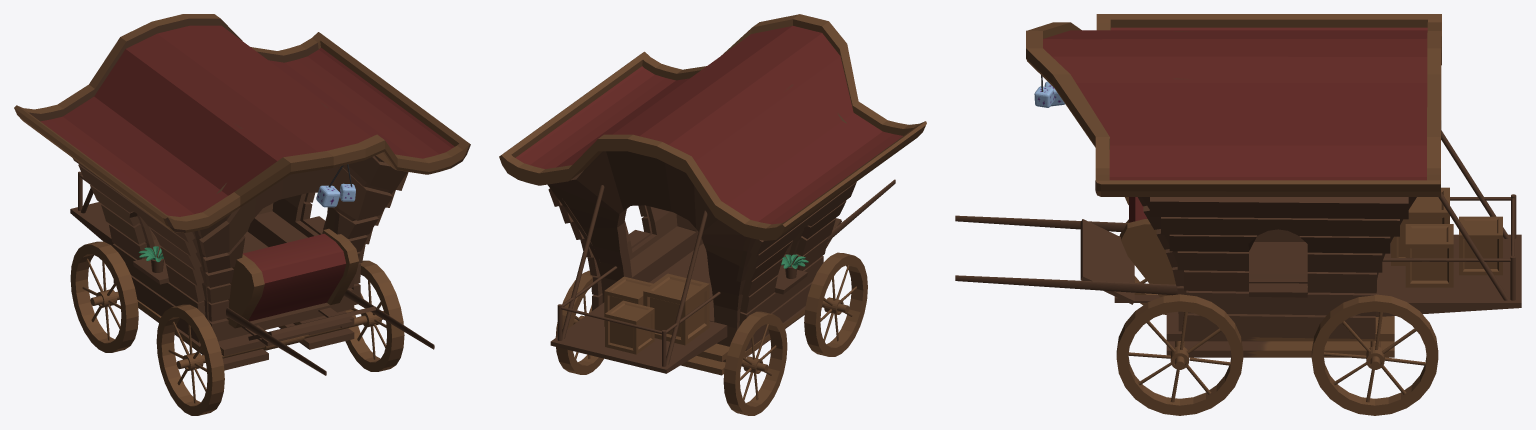
The model's file is carriage.fbx.
The picture shows the model from 3 angles, left to right: view 1: azimuth 30°, elevation 25°; view 2: azimuth 150°, elevation 25°; view 3: azimuth 270°, elevation 25°; orthographic projection. The views are drawn at different scales.
Parts seen in each view (by area): view 1: Cube, Wheels, Seat, Undercarriage, Cylinder.004, Axels, TrunkBed, Cylinder.001, Footrest, Cylinder; view 2: Cube, Wheels, Cube.001, TrunkBed, Undercarriage, Axels, Cylinder.004, Cylinder; view 3: Cube, Wheels, Cube.001, TrunkBed, Undercarriage, Cylinder.004, Footrest, Seat, Axels, Cylinder.001.
Boxes of the visible parts, x1,y1,x2,y2 form: Cube: [14, 14, 470, 342]; Wheels: [70, 241, 404, 415]; Seat: [226, 228, 358, 346]; Undercarriage: [137, 300, 354, 370]; Cylinder.004: [226, 289, 434, 375]; Axels: [90, 289, 383, 370]; TrunkBed: [70, 202, 113, 246]; Cylinder.001: [316, 164, 355, 207]; Footrest: [248, 306, 375, 340]; Cylinder: [139, 246, 163, 272]; Cube: [499, 14, 926, 366]; Wheels: [555, 252, 867, 415]; Cube.001: [604, 273, 709, 354]; TrunkBed: [550, 302, 727, 373]; Undercarriage: [681, 306, 805, 375]; Axels: [573, 297, 849, 373]; Cylinder.004: [827, 179, 895, 241]; Cylinder: [781, 254, 808, 278]; Cube: [1026, 14, 1516, 339]; Wheels: [1116, 219, 1438, 415]; Cube.001: [1391, 187, 1502, 287]; TrunkBed: [1375, 234, 1521, 316]; Undercarriage: [1166, 311, 1394, 357]; Cylinder.004: [955, 215, 1177, 295]; Footrest: [1080, 219, 1134, 304]; Seat: [1114, 197, 1175, 302]; Axels: [1170, 341, 1384, 369]; Cylinder.001: [1034, 75, 1064, 107].
Size of the model in its own units: 1366 by 1216 by 1924.
Materials: 6 (3 with a texture image).
